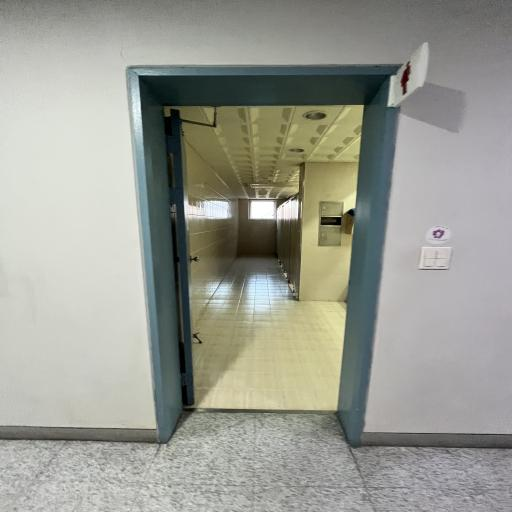door: (126, 63, 407, 448)
